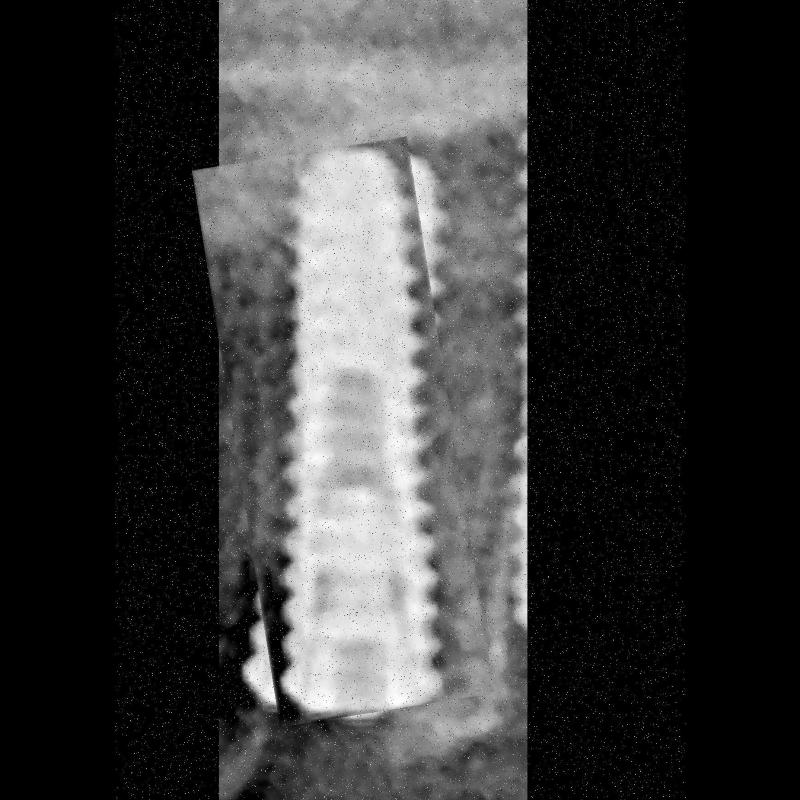osstem: (213, 144, 473, 720)
